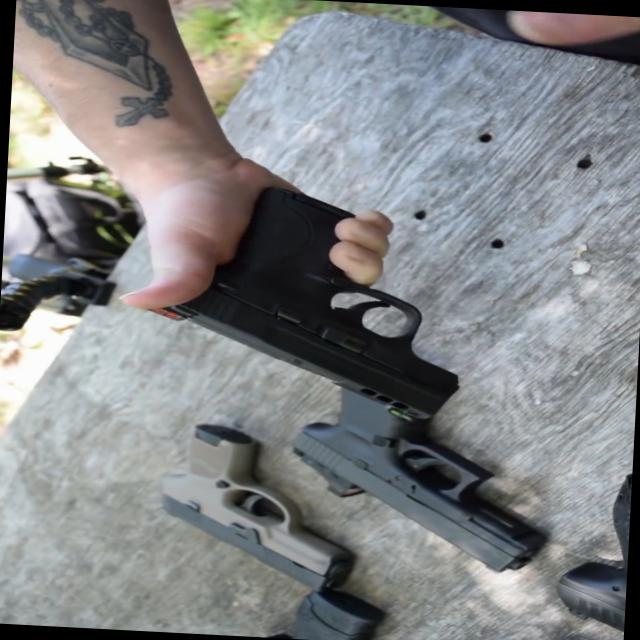handgun: (138, 166, 506, 434), (246, 368, 552, 580), (121, 418, 396, 596)
